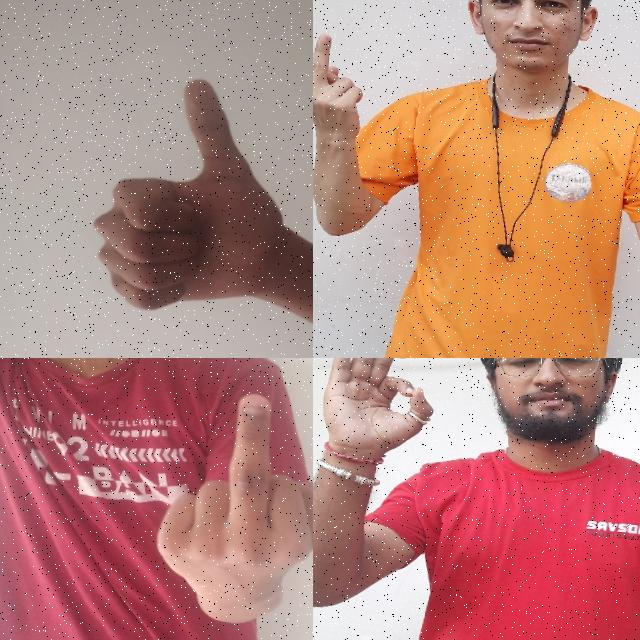Middle Finger: (147, 388, 313, 632), (313, 21, 376, 151)
Okay: (313, 358, 444, 474)
Thumbs Up: (84, 66, 312, 338)
